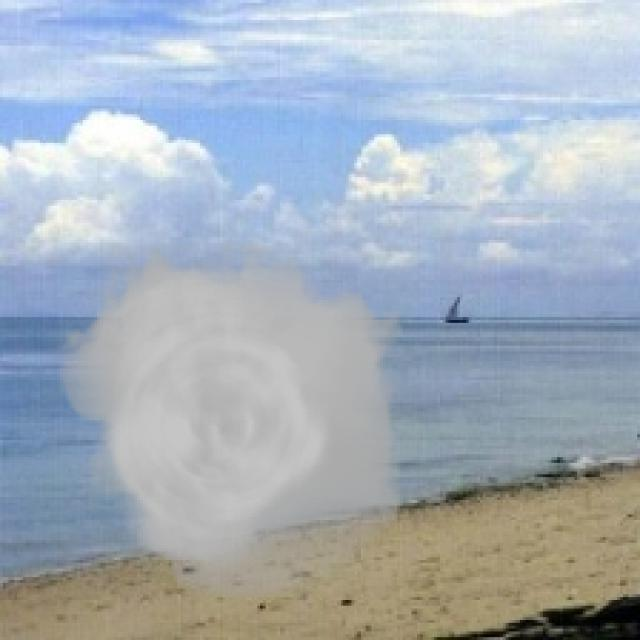smoke: (46, 243, 420, 600)
